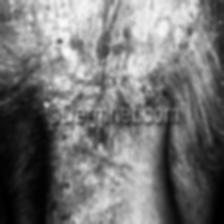Non-Cancerous Skin Condition: (48, 125, 114, 224), (7, 0, 76, 74)
